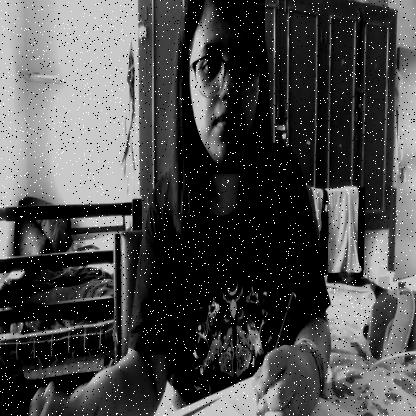Normal: (185, 0, 265, 174)
